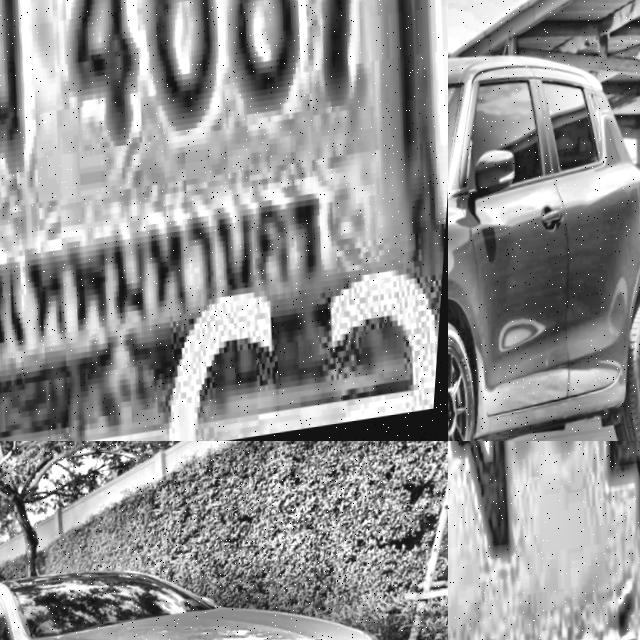license-plate: (0, 0, 448, 441), (448, 441, 640, 640)
